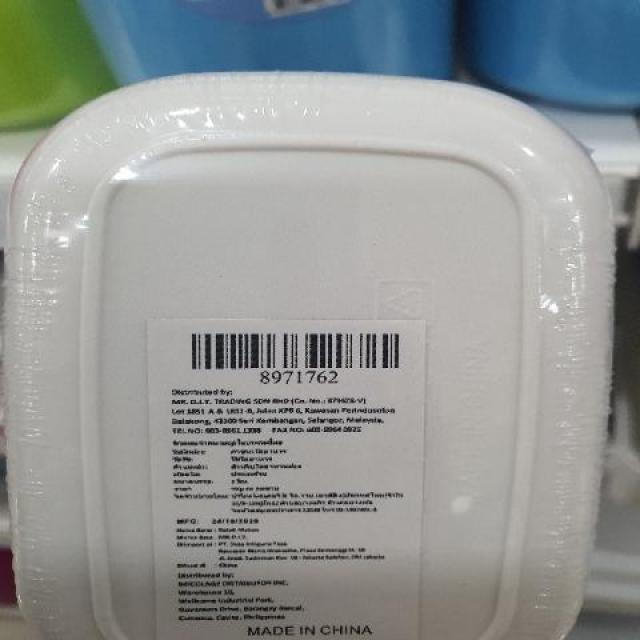Barcode: (174, 324, 414, 388)
